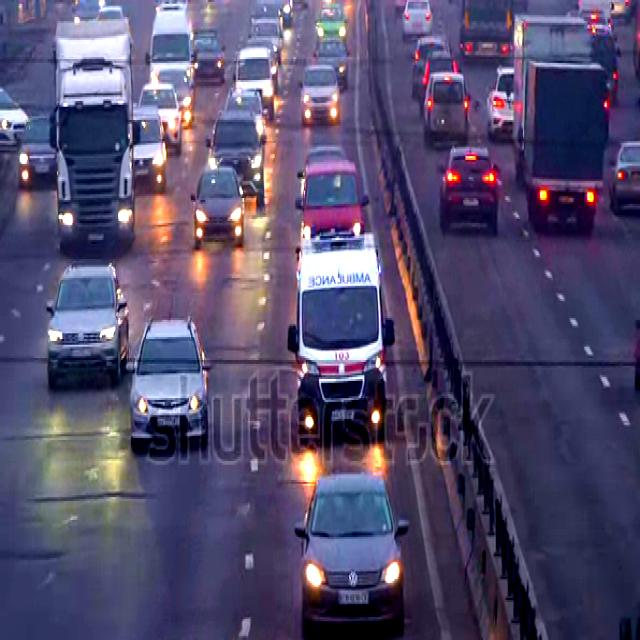ambulance: (286, 228, 394, 450)
